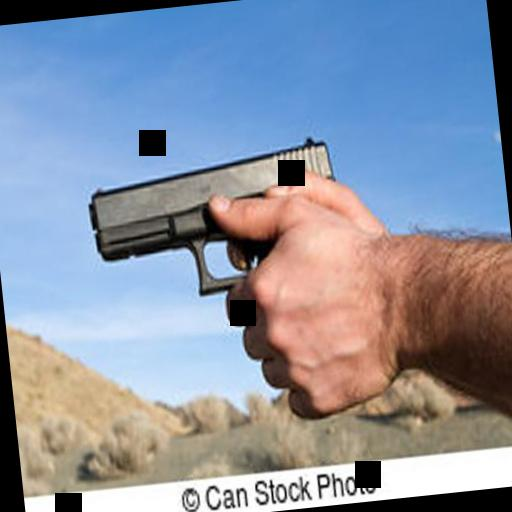Handgun: (78, 130, 348, 308)
